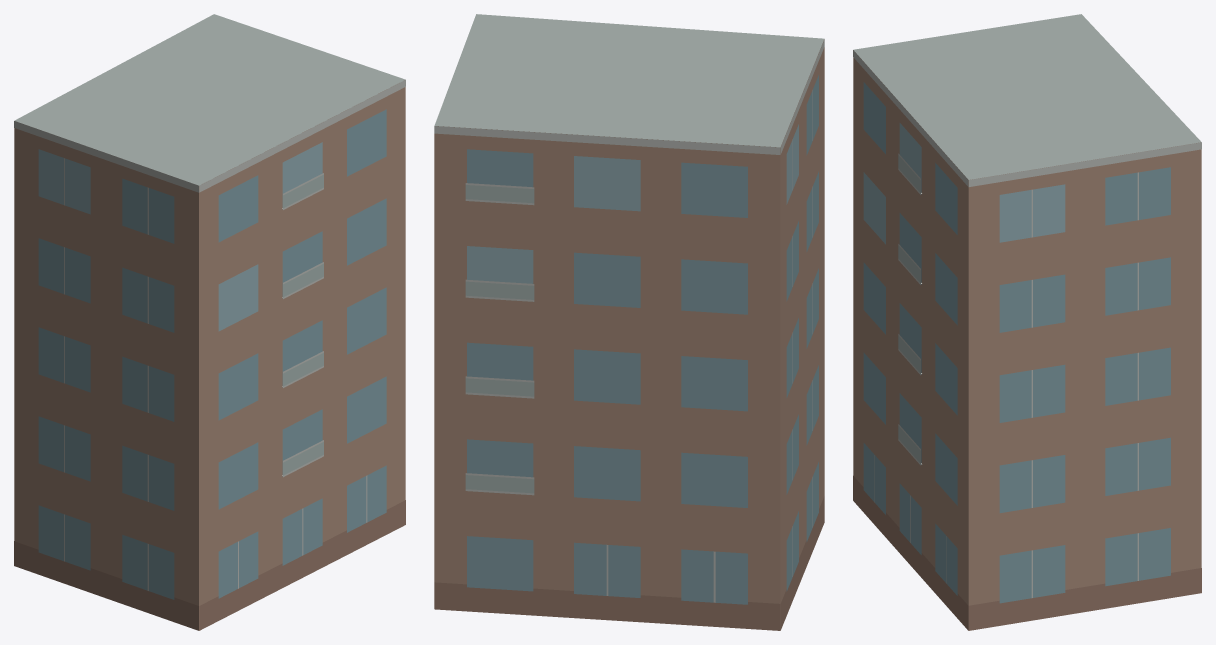
The model's file is residential-b2fba0bf-cd0b-4647-8de9-1d857232ad8e.glb.
3 renders of one model, left to right at view 1: azimuth 30°, elevation 25°; view 2: azimuth 150°, elevation 25°; view 3: azimuth 270°, elevation 25°, orthographic. The views are drawn at different scales.
Visible parts, largest first — view 1: residential-b2fba0bf-cd0b-4647-8de9-1d857232ad8e.tmp; view 2: residential-b2fba0bf-cd0b-4647-8de9-1d857232ad8e.tmp; view 3: residential-b2fba0bf-cd0b-4647-8de9-1d857232ad8e.tmp.
Boxes of the visible parts, x1,y1,x2,y2 form: residential-b2fba0bf-cd0b-4647-8de9-1d857232ad8e.tmp: [14, 14, 405, 630]; residential-b2fba0bf-cd0b-4647-8de9-1d857232ad8e.tmp: [434, 14, 824, 630]; residential-b2fba0bf-cd0b-4647-8de9-1d857232ad8e.tmp: [853, 14, 1201, 630].
Size of the model in its own units: 12.05 by 15.25 by 10.7.
